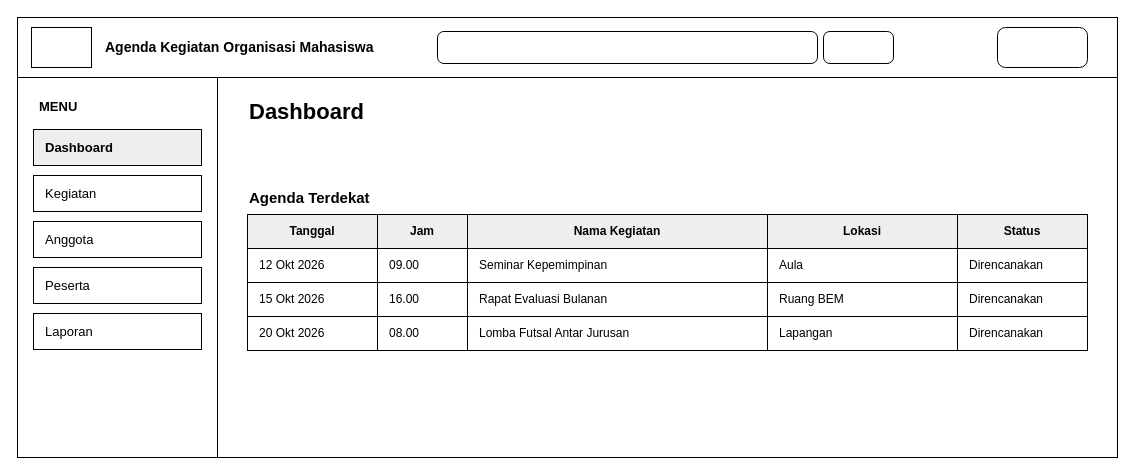
Some shapes in this 1135 by 475 pixel diagram are drawn without their labels. The shapes that lost their labels are listed below. From the top down, each one's centre as x and y in pixels, then its label:
At (61,47): "LOGO".
At (627,47): "Cari kegiatan...".
At (858,47): "Cari".
At (1042,47): "Profil".
